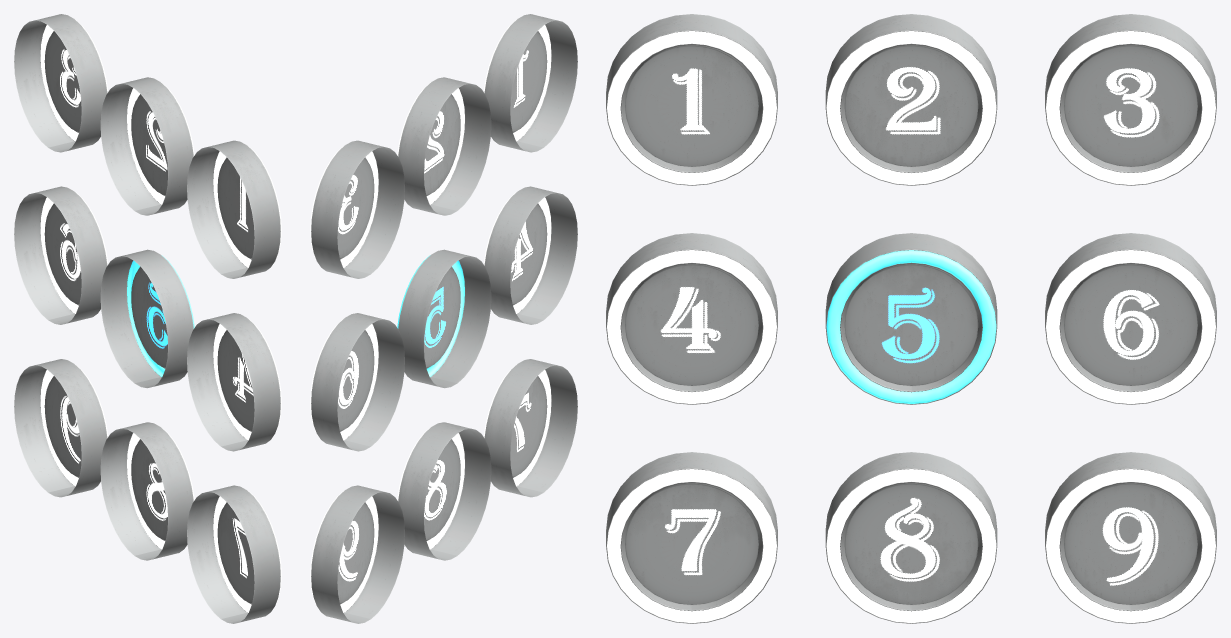
File: SM_Arc_ElevatorButtons_A_V3.fbx
3 renders of one model, left to right at view 1: azimuth 30°, elevation 25°; view 2: azimuth 150°, elevation 25°; view 3: azimuth 270°, elevation 25°, orthographic. The views are drawn at different scales.
Visible parts, largest first — view 1: SM_Arc_ElevatorButtons_A_V3; view 2: SM_Arc_ElevatorButtons_A_V3; view 3: SM_Arc_ElevatorButtons_A_V3.
Boxes of the visible parts, x1=… form: SM_Arc_ElevatorButtons_A_V3: x1=14, y1=14, x2=281, y2=623; SM_Arc_ElevatorButtons_A_V3: x1=310, y1=14, x2=577, y2=623; SM_Arc_ElevatorButtons_A_V3: x1=606, y1=14, x2=1216, y2=623.
Bounding box in the file's own units: 3.21 × 46.1 × 49.45.
Materials: 1 (1 with a texture image).
